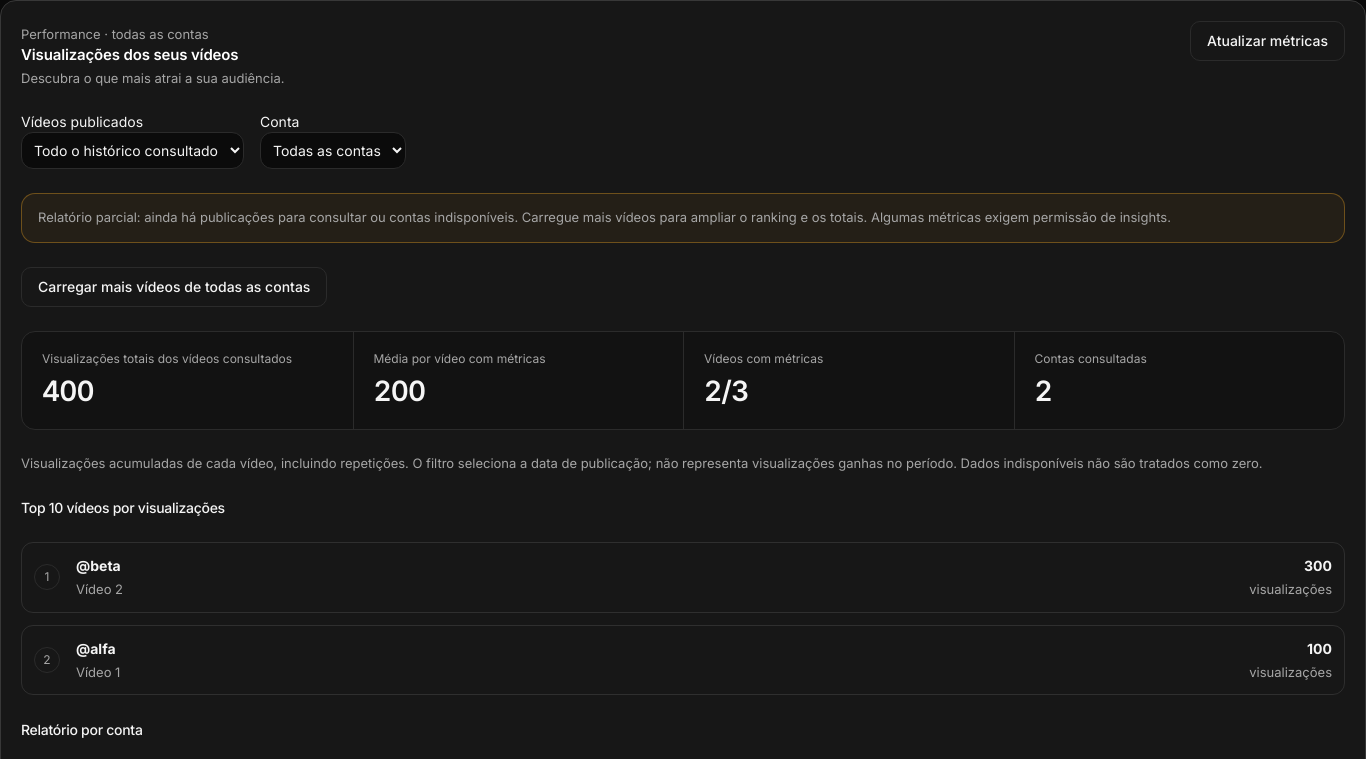
Scenario: ranks videos across accounts, sums available views and merges additional pages without duplicates
Check: the list item "1 @beta Vídeo 2 300 visualizações" is shown, box [21,542,1345,612]
Check: the text "400" is shown, box [42,374,94,408]
Click the button "Carregar mais vídeos de todas as contas": point(174, 287) [21,267,327,307]
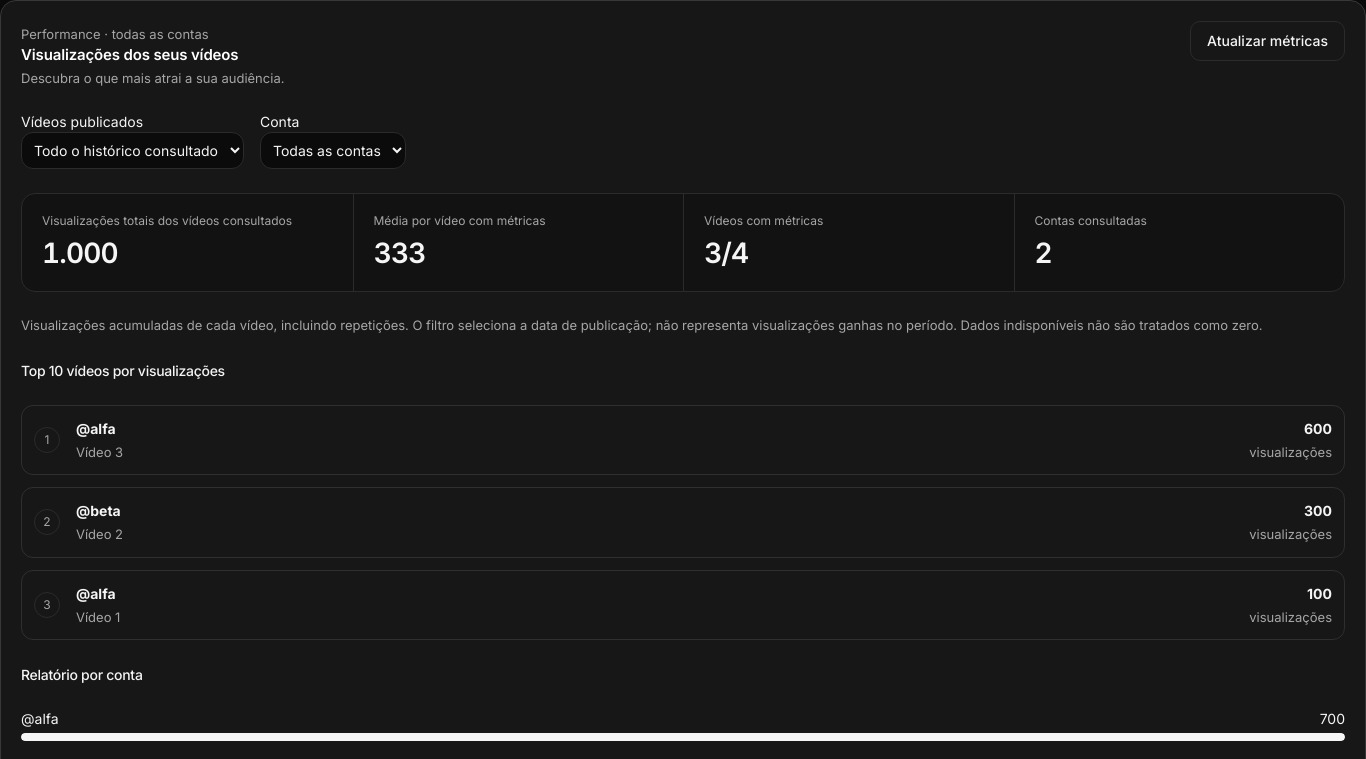
Check: the text "1.000" is shown, box [42,236,118,270]
Check: the list item "1 @alfa Vídeo 3 600 visualizações" is shown, box [21,404,1345,475]
Check: the text "3/4" is shown, box [704,236,748,270]
